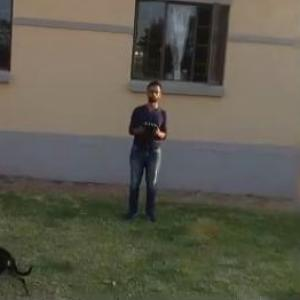follow: (121, 77, 169, 222)
null: (0, 233, 36, 299)
